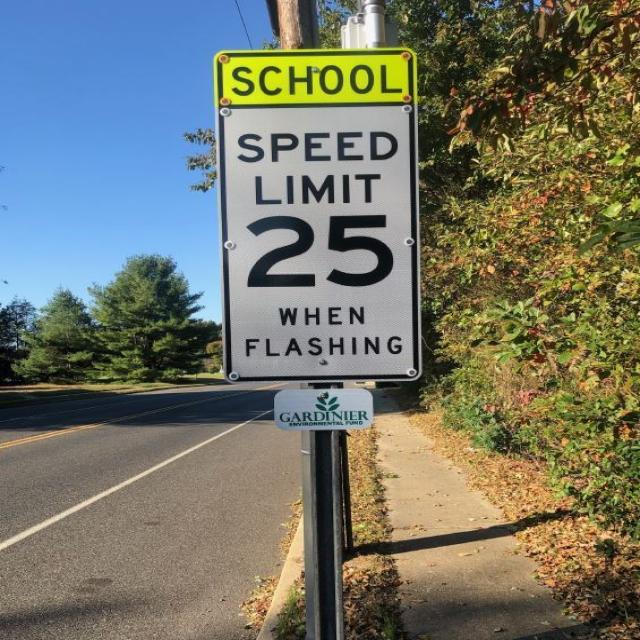speedLimit25: (230, 122, 405, 301)
